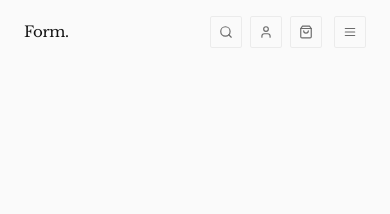
Navbar › mobile menu › toggle button aria-expanded reflects open state
The width and height of the screenshot is (390, 214).
Click the button with test id "navbar-mobile-toggle" at (350, 32), box [334,16,366,48]
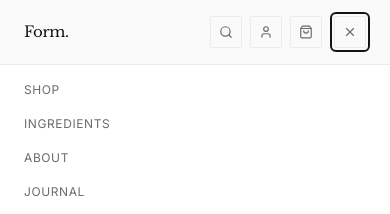
Now the button with test id "navbar-mobile-toggle" is expanded, box [334,16,366,48]
